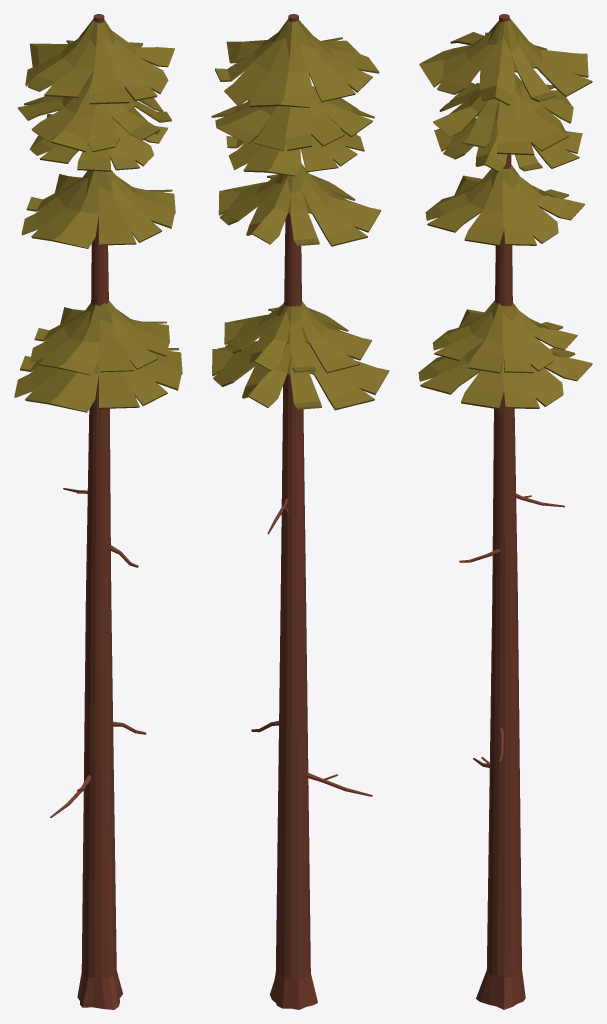
The model's file is pine_healthy_type_8_LOD0.fbx.
3 renders of one model, left to right at view 1: azimuth 30°, elevation 25°; view 2: azimuth 150°, elevation 25°; view 3: azimuth 270°, elevation 25°, orthographic.
Visible parts, largest first — view 1: pine_trunk.016; view 2: pine_trunk.016; view 3: pine_trunk.016.
Part boxes in pixels (x1,y1,x2,y2): pine_trunk.016: (14,14,182,1009); pine_trunk.016: (211,14,389,1009); pine_trunk.016: (418,14,592,1009).
Bounding box in the file's own units: 500 × 2872 × 463.
